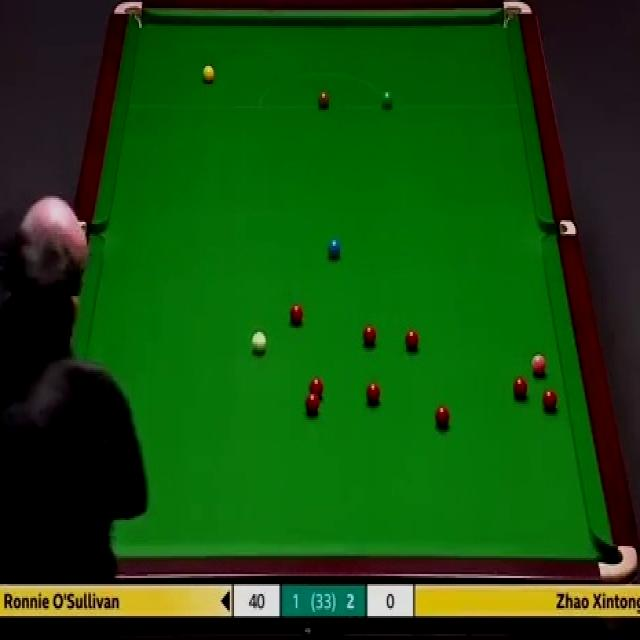blue-ball: (328, 236, 341, 262)
brown-ball: (317, 91, 331, 109)
green-ball: (380, 88, 395, 110)
pink-ball: (530, 354, 548, 374)
red-ball: (434, 405, 451, 432), (360, 325, 378, 348), (365, 382, 380, 406), (406, 328, 420, 352), (512, 376, 528, 397), (541, 390, 557, 411), (309, 376, 324, 398), (289, 303, 303, 324), (306, 391, 318, 414)
white-ball: (250, 330, 267, 356)
yellow-ball: (203, 66, 215, 85)
